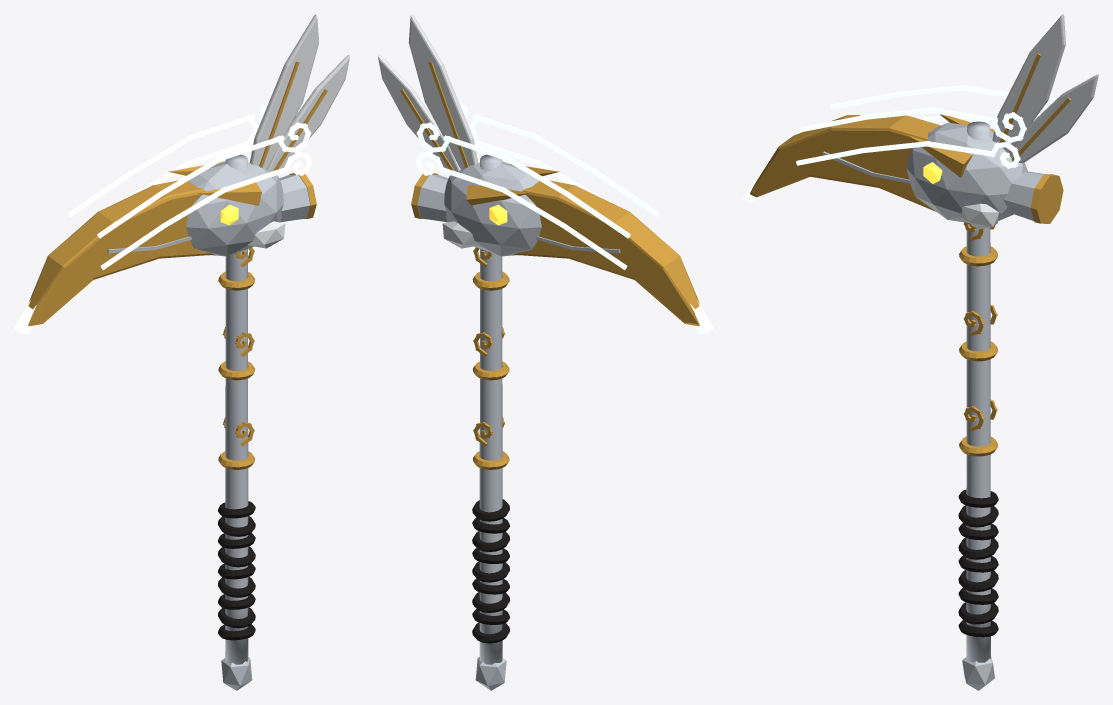
The model's file is galeshear.glb.
The picture shows the model from 3 angles, left to right: view 1: azimuth 30°, elevation 25°; view 2: azimuth 150°, elevation 25°; view 3: azimuth 330°, elevation 25°; orthographic projection. The views are drawn at different scales.
Parts seen in each view (by area): view 1: AX8_Beak, AX8_Shaft, AX8_Skull, AX8_Ear0, AX8_Ear1, AX8_Hammer, AX8_Pommel, AX8_Brow-1, AX8_Cheek-1; view 2: AX8_Beak, AX8_Shaft, AX8_Skull, AX8_Ear0, AX8_Ear1, AX8_Hammer, AX8_Pommel, AX8_Brow1, AX8_Cheek1; view 3: AX8_Beak, AX8_Shaft, AX8_Skull, AX8_Ear0, AX8_Ear1, AX8_Face, AX8_Hammer, AX8_Brow-1, AX8_Pommel, AX8_Cheek-1.
Part boxes in pixels (bbox=[...]): AX8_Beak: bbox=[28, 180, 214, 326]; AX8_Shaft: bbox=[225, 154, 248, 664]; AX8_Skull: bbox=[186, 161, 283, 256]; AX8_Ear0: bbox=[250, 14, 319, 169]; AX8_Ear1: bbox=[267, 55, 349, 171]; AX8_Hammer: bbox=[279, 174, 310, 222]; AX8_Pommel: bbox=[221, 657, 252, 690]; AX8_Brow-1: bbox=[198, 182, 261, 205]; AX8_Cheek-1: bbox=[248, 221, 285, 248]; AX8_Beak: bbox=[513, 180, 699, 326]; AX8_Shaft: bbox=[479, 154, 502, 664]; AX8_Skull: bbox=[444, 161, 541, 256]; AX8_Ear0: bbox=[408, 14, 477, 169]; AX8_Ear1: bbox=[378, 55, 460, 171]; AX8_Hammer: bbox=[417, 174, 448, 222]; AX8_Pommel: bbox=[475, 657, 506, 690]; AX8_Brow1: bbox=[466, 184, 529, 205]; AX8_Cheek1: bbox=[442, 221, 479, 248]; AX8_Beak: bbox=[750, 115, 940, 211]; AX8_Shaft: bbox=[966, 121, 990, 662]; AX8_Skull: bbox=[906, 122, 1027, 222]; AX8_Ear0: bbox=[992, 14, 1065, 152]; AX8_Ear1: bbox=[1009, 74, 1098, 162]; AX8_Face: bbox=[1030, 174, 1063, 223]; AX8_Hammer: bbox=[1003, 171, 1045, 220]; AX8_Brow-1: bbox=[906, 135, 972, 177]; AX8_Pommel: bbox=[962, 656, 994, 690]; AX8_Cheek-1: bbox=[959, 203, 999, 229].
Size of the model in its own units: 0.6588 by 1.25 by 0.1425.
